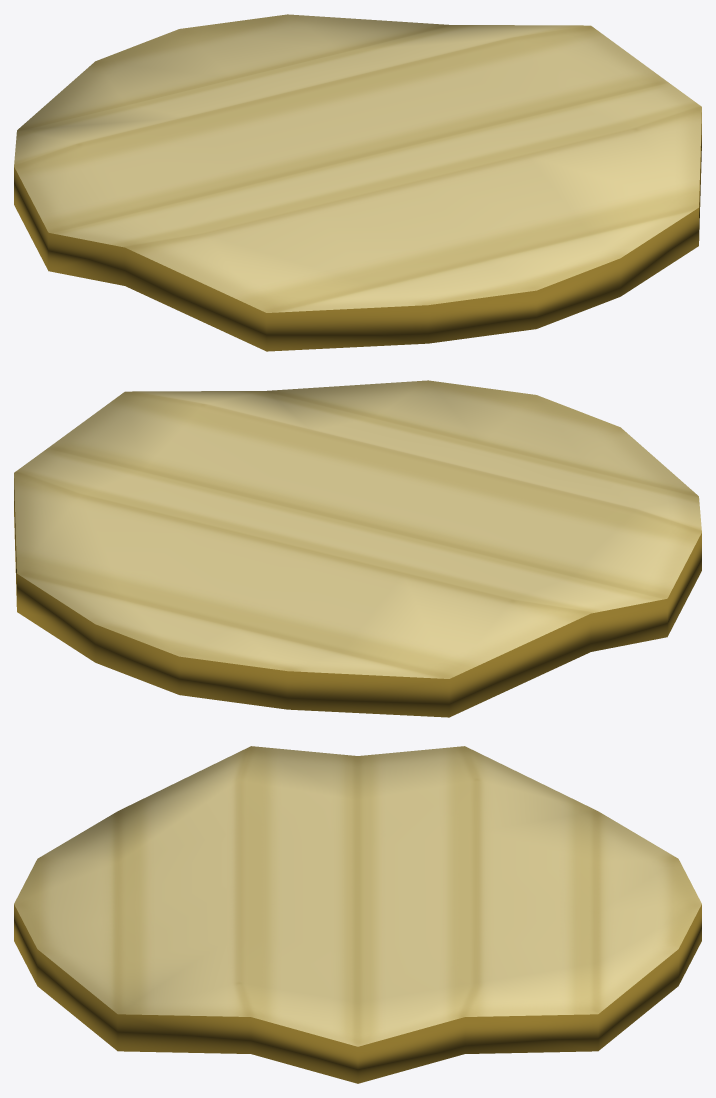
Rendered from pickle.fbx.
3 views of the same model, one above another, from view 1: azimuth 30°, elevation 25°; view 2: azimuth 150°, elevation 25°; view 3: azimuth 270°, elevation 25° (orthographic). The views are drawn at different scales.
Visible parts, largest first — view 1: pickle; view 2: pickle; view 3: pickle.
Boxes of the visible parts, x1,y1,x2,y2 form: pickle: [14, 14, 701, 351]; pickle: [14, 380, 701, 717]; pickle: [14, 746, 701, 1083].
Size of the model in its own units: 2.28 by 0.2491 by 2.28.
